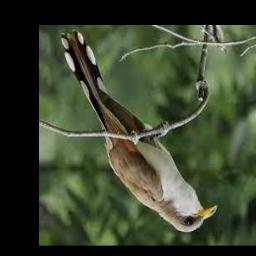Cuckoo: (60, 30, 216, 232)
